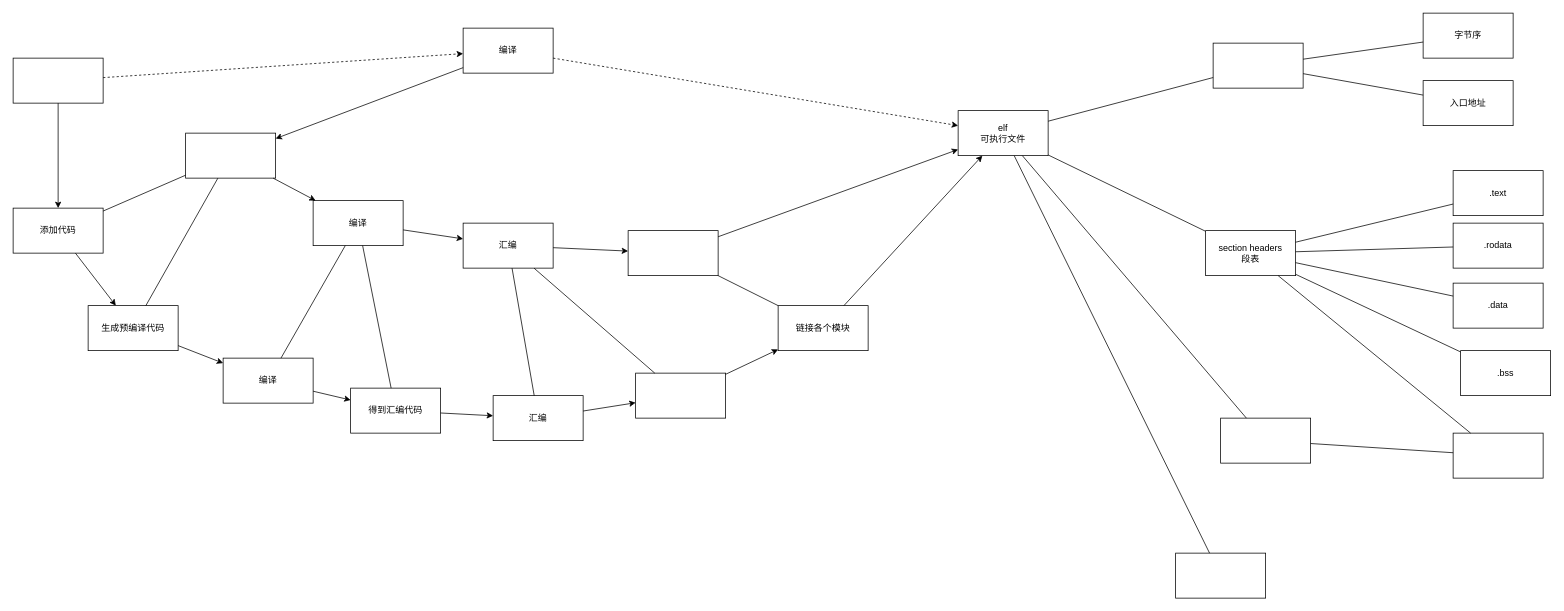
The diagram is 1564 pixels wide and 611 high, and some of its shapes have lost their labels. The shapes that lost their labels are listed below. From the top down, each one's box as (x1, y1, x2, y2) in pixels, then its label:
(12, 57, 103, 103): 程序源码
(1212, 42, 1303, 88): program headers 程序头
(185, 132, 276, 178): 预编译
(627, 230, 718, 276): 链接
(635, 372, 726, 418): 得到机器指令
(1220, 417, 1311, 463): 符号表
(1452, 432, 1543, 478): .symtab
(1175, 552, 1266, 598): 进程虚拟地址
